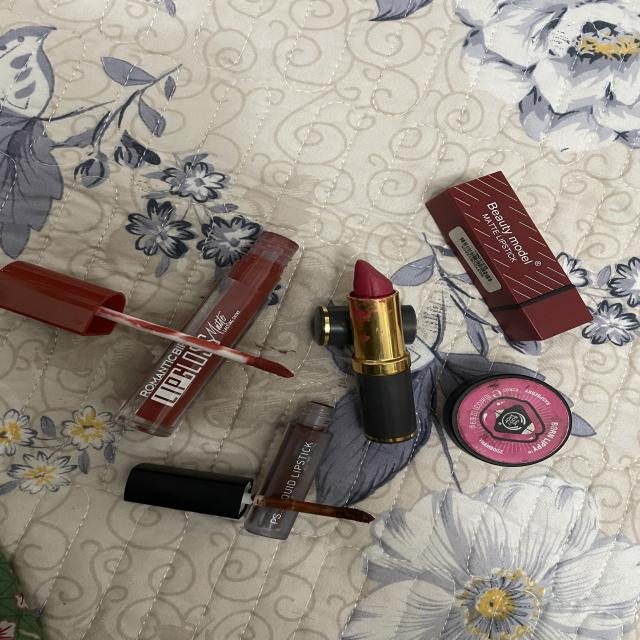lip gloss: (122, 224, 301, 438), (113, 456, 389, 570)
lip shade: (430, 158, 589, 346)
lip stick: (337, 256, 437, 444)
